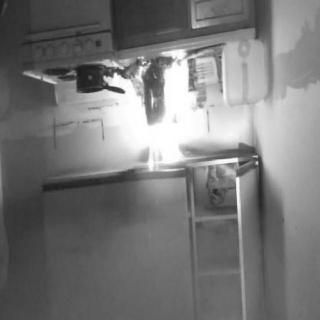Fire: (115, 50, 192, 177)
